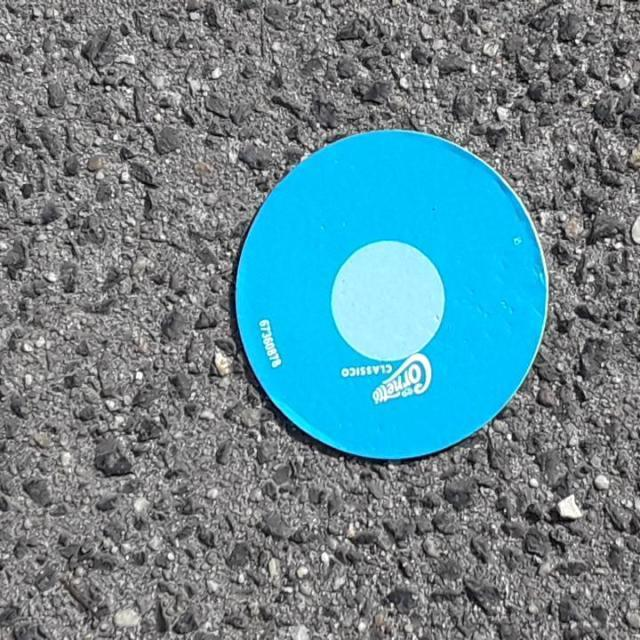Paper: (226, 123, 554, 464)
